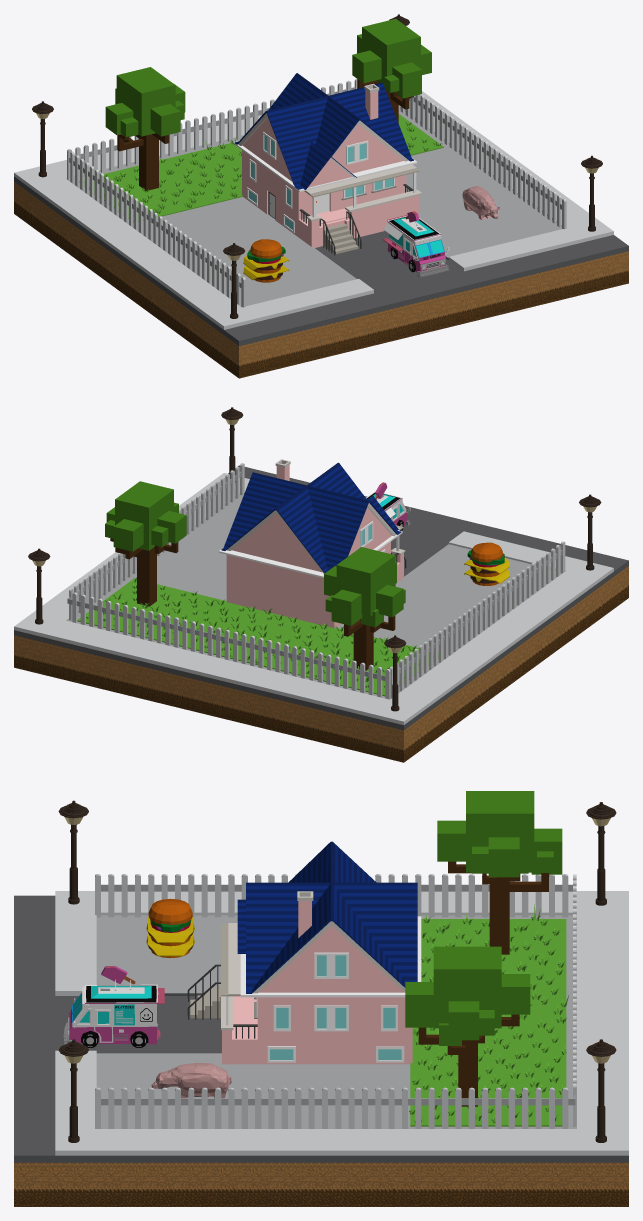
3 renders of one model, top to bottom at view 1: azimuth 30°, elevation 25°; view 2: azimuth 150°, elevation 25°; view 3: azimuth 270°, elevation 25°, orthographic. The views are drawn at different scales.
Visible parts, largest first — view 1: Cube.004, Cube.313, VEHICLES_ICE_CREAM_TRUCK, OBJRANDOM_HAMBURGER, ANIMAL_HIPOPOTAMO; view 2: Cube.004, Cube.313, OBJRANDOM_HAMBURGER, VEHICLES_ICE_CREAM_TRUCK; view 3: Cube.004, Cube.313, VEHICLES_ICE_CREAM_TRUCK, OBJRANDOM_HAMBURGER, ANIMAL_HIPOPOTAMO.
Part boxes in pixels (left/top/right/bottom): Cube.004: left=14, top=14, right=628, bottom=378; Cube.313: left=233, top=73, right=422, bottom=255; VEHICLES_ICE_CREAM_TRUCK: left=382, top=211, right=449, bottom=277; OBJRANDOM_HAMBURGER: left=243, top=239, right=289, bottom=282; ANIMAL_HIPOPOTAMO: left=462, top=186, right=499, bottom=219; Cube.004: left=14, top=407, right=628, bottom=762; Cube.313: left=218, top=459, right=406, bottom=627; OBJRANDOM_HAMBURGER: left=464, top=542, right=509, bottom=585; VEHICLES_ICE_CREAM_TRUCK: left=366, top=482, right=410, bottom=530; Cube.004: left=14, top=791, right=628, bottom=1206; Cube.313: left=187, top=841, right=421, bottom=1064; VEHICLES_ICE_CREAM_TRUCK: left=63, top=966, right=164, bottom=1047; OBJRANDOM_HAMBURGER: left=146, top=898, right=194, bottom=957; ANIMAL_HIPOPOTAMO: left=151, top=1063, right=231, bottom=1098.
Size of the model in its own units: 4000 by 1604 by 4000.
44 materials, 3 textured.
